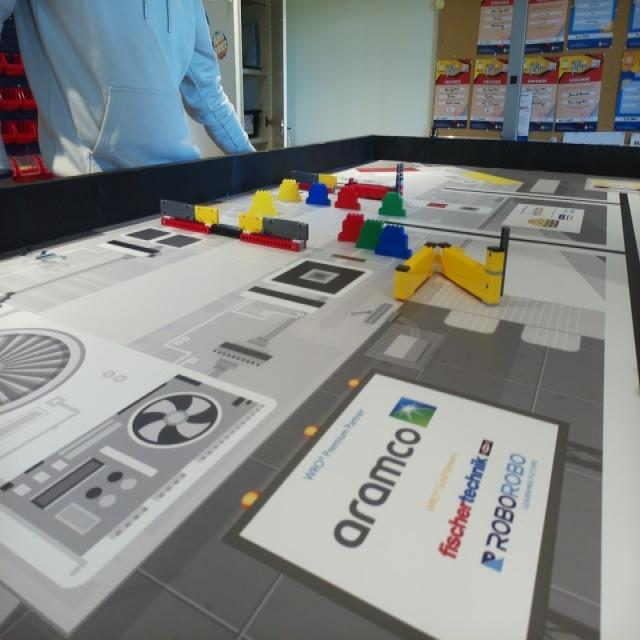blau: (376, 227, 409, 256), (307, 185, 329, 207)
gruen: (378, 192, 408, 218), (360, 220, 380, 249)
rot: (335, 185, 362, 210), (339, 217, 363, 238)
yellow: (253, 190, 272, 216), (281, 178, 302, 199)
